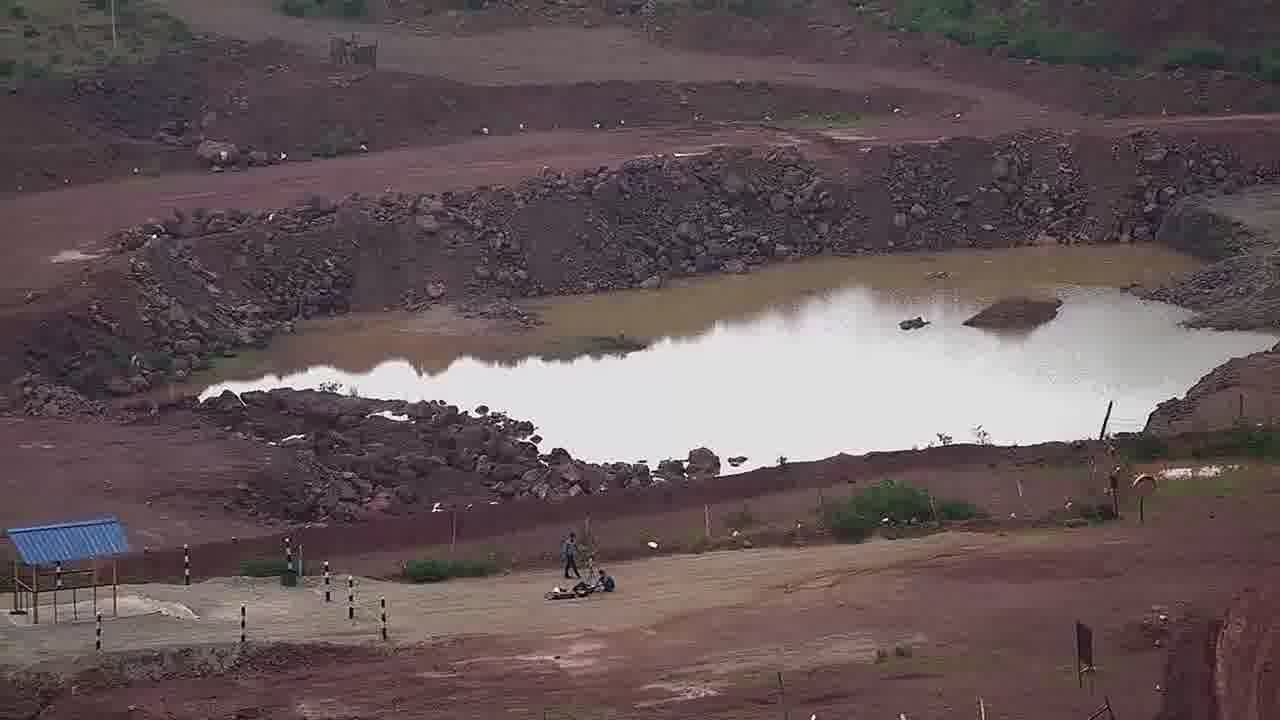person: (560, 529, 584, 582)
